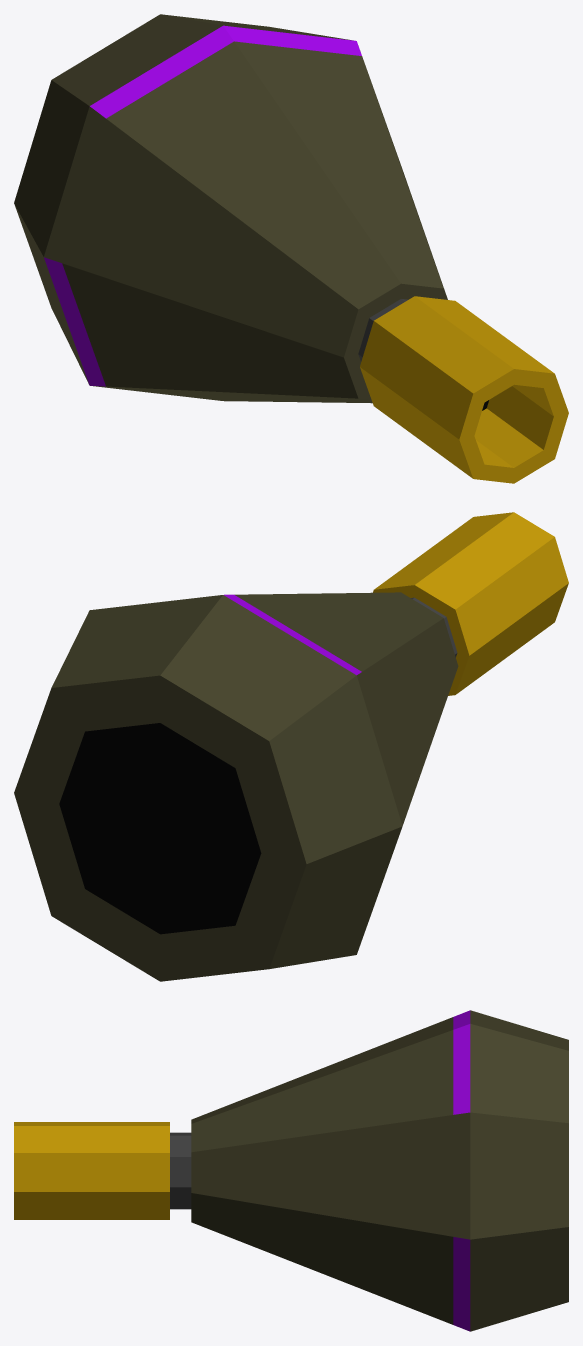
Rendered from pistol.fbx.
The picture shows the model from 3 angles, top to bottom: view 1: azimuth 30°, elevation 25°; view 2: azimuth 150°, elevation 25°; view 3: azimuth 270°, elevation 25°; orthographic projection. The views are drawn at different scales.
Visible parts, largest first — view 1: pistol; view 2: pistol; view 3: pistol.
Part boxes in pixels (bbox=[...]): pistol: bbox=[14, 14, 568, 483]; pistol: bbox=[14, 512, 568, 981]; pistol: bbox=[14, 1010, 568, 1331].
Bounding box in the file's own units: 28.42 × 48.54 × 28.42.
